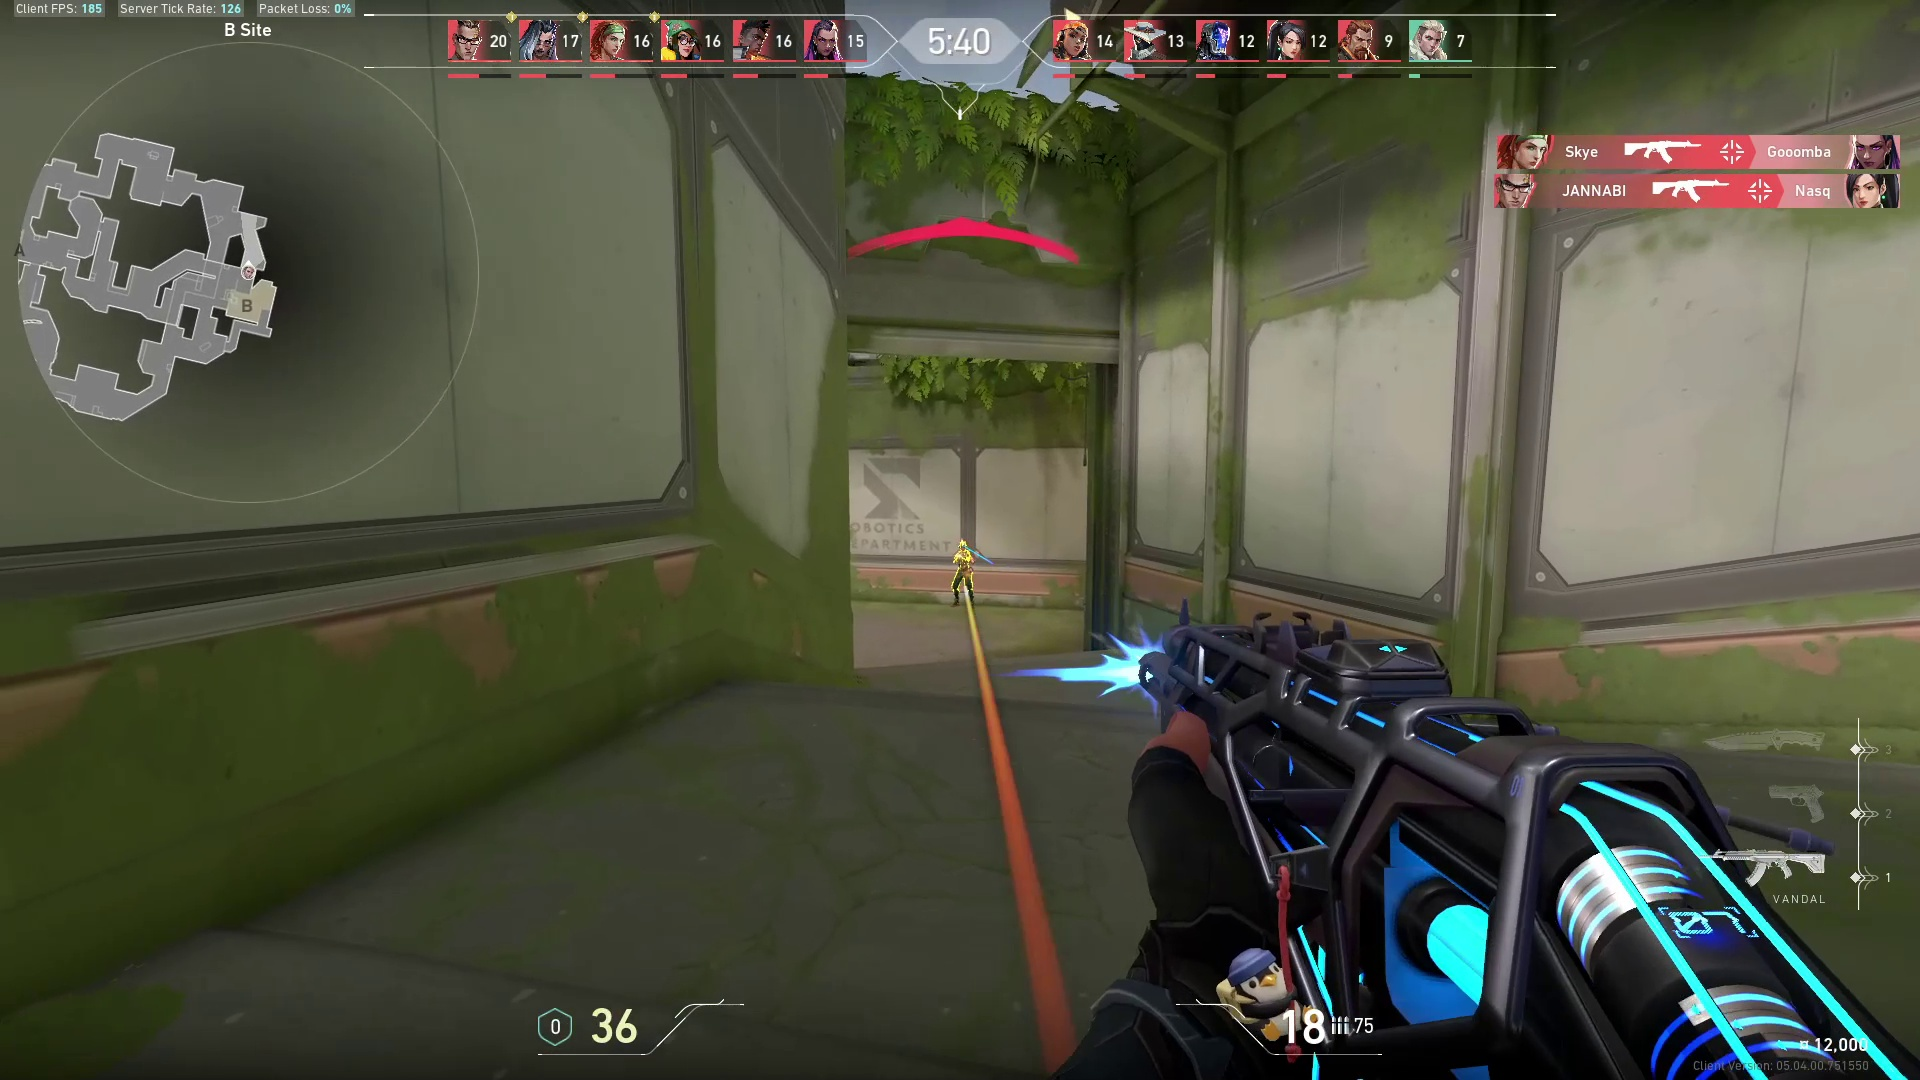enemy_body: (949, 550, 977, 611)
enemy_head: (957, 539, 967, 553)
